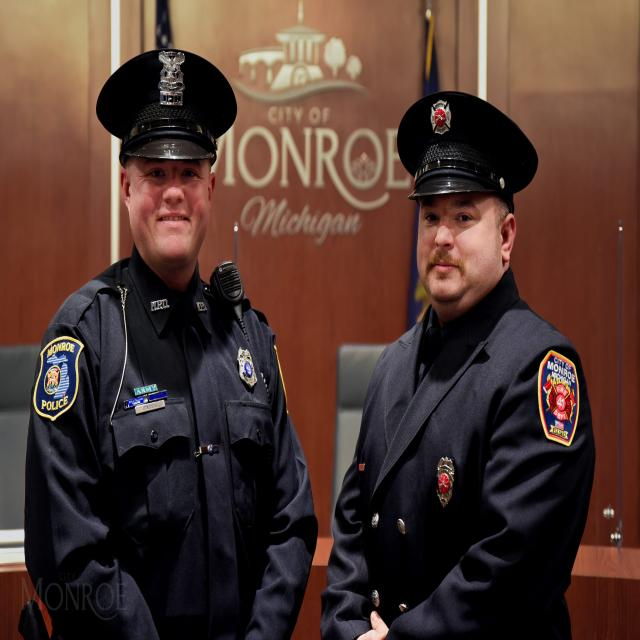police: (21, 38, 314, 640), (321, 79, 608, 640)
